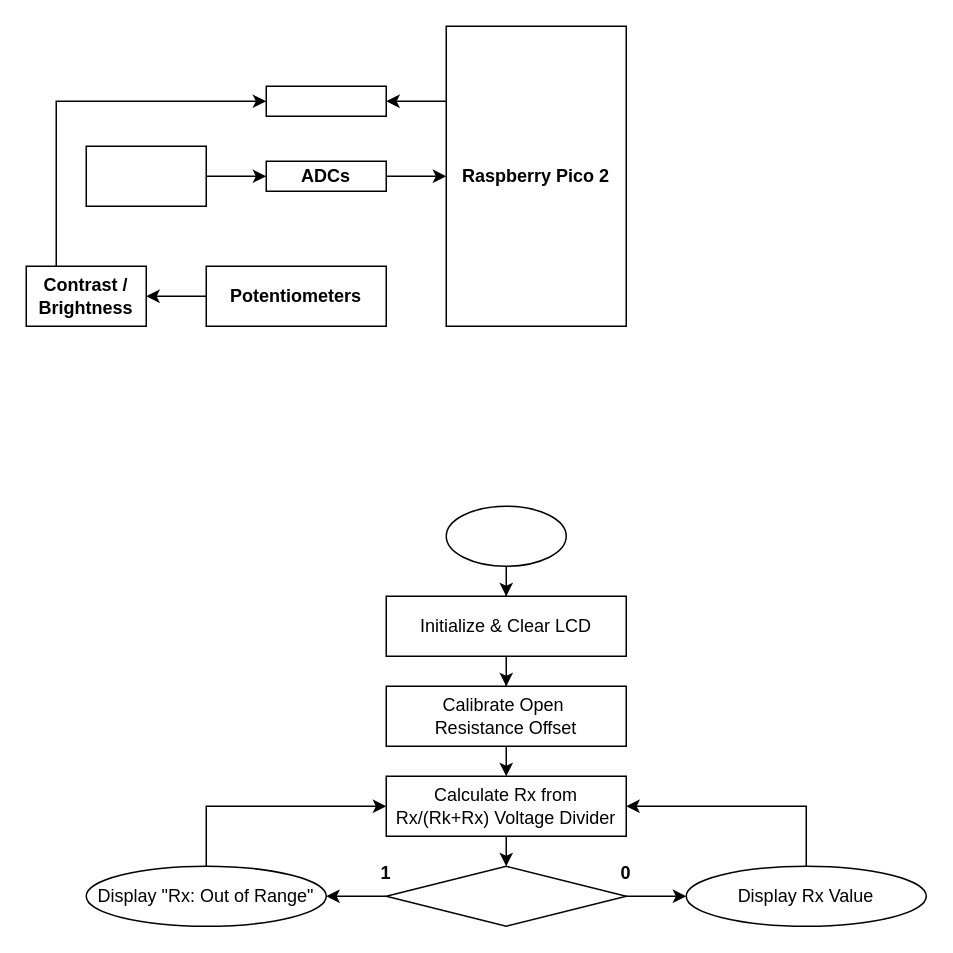
Some shapes in this 953 by 953 pixel diagram are drawn without their labels. Each missing label, with the box of its shape:
LCD: (265, 85, 386, 116)
Out Of Range?: (385, 865, 626, 926)
START: (445, 505, 566, 566)
Voltage Divider: (85, 145, 206, 206)
